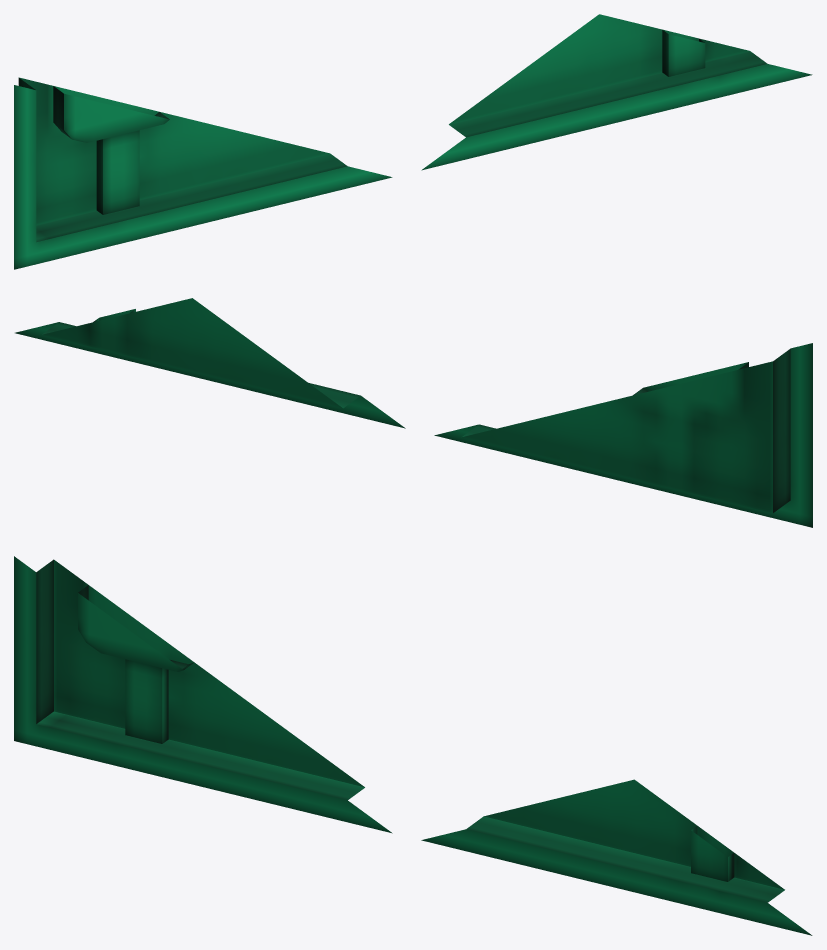
File: sc_finalBoss_slideDoorC_destroyed_B.FBX
The picture shows the model from 3 angles, top to bottom: view 1: azimuth 30°, elevation 25°; view 2: azimuth 150°, elevation 25°; view 3: azimuth 330°, elevation 25°; orthographic projection.
Visible parts, largest first — view 1: finalBoss_slideDoorC_destroyed_B; view 2: finalBoss_slideDoorC_destroyed_B; view 3: finalBoss_slideDoorC_destroyed_B.
Part boxes in pixels (x1,y1,x2,y2): finalBoss_slideDoorC_destroyed_B: (14, 14, 812, 269); finalBoss_slideDoorC_destroyed_B: (15, 298, 812, 527); finalBoss_slideDoorC_destroyed_B: (14, 556, 812, 935).
Size of the model in its own units: 14.24 by 3.15 by 0.5433.
